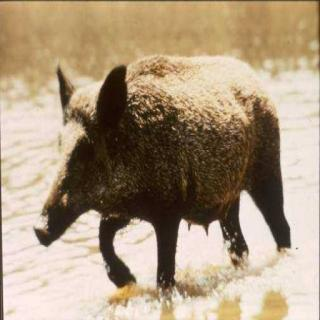Pig: (27, 29, 320, 289)
